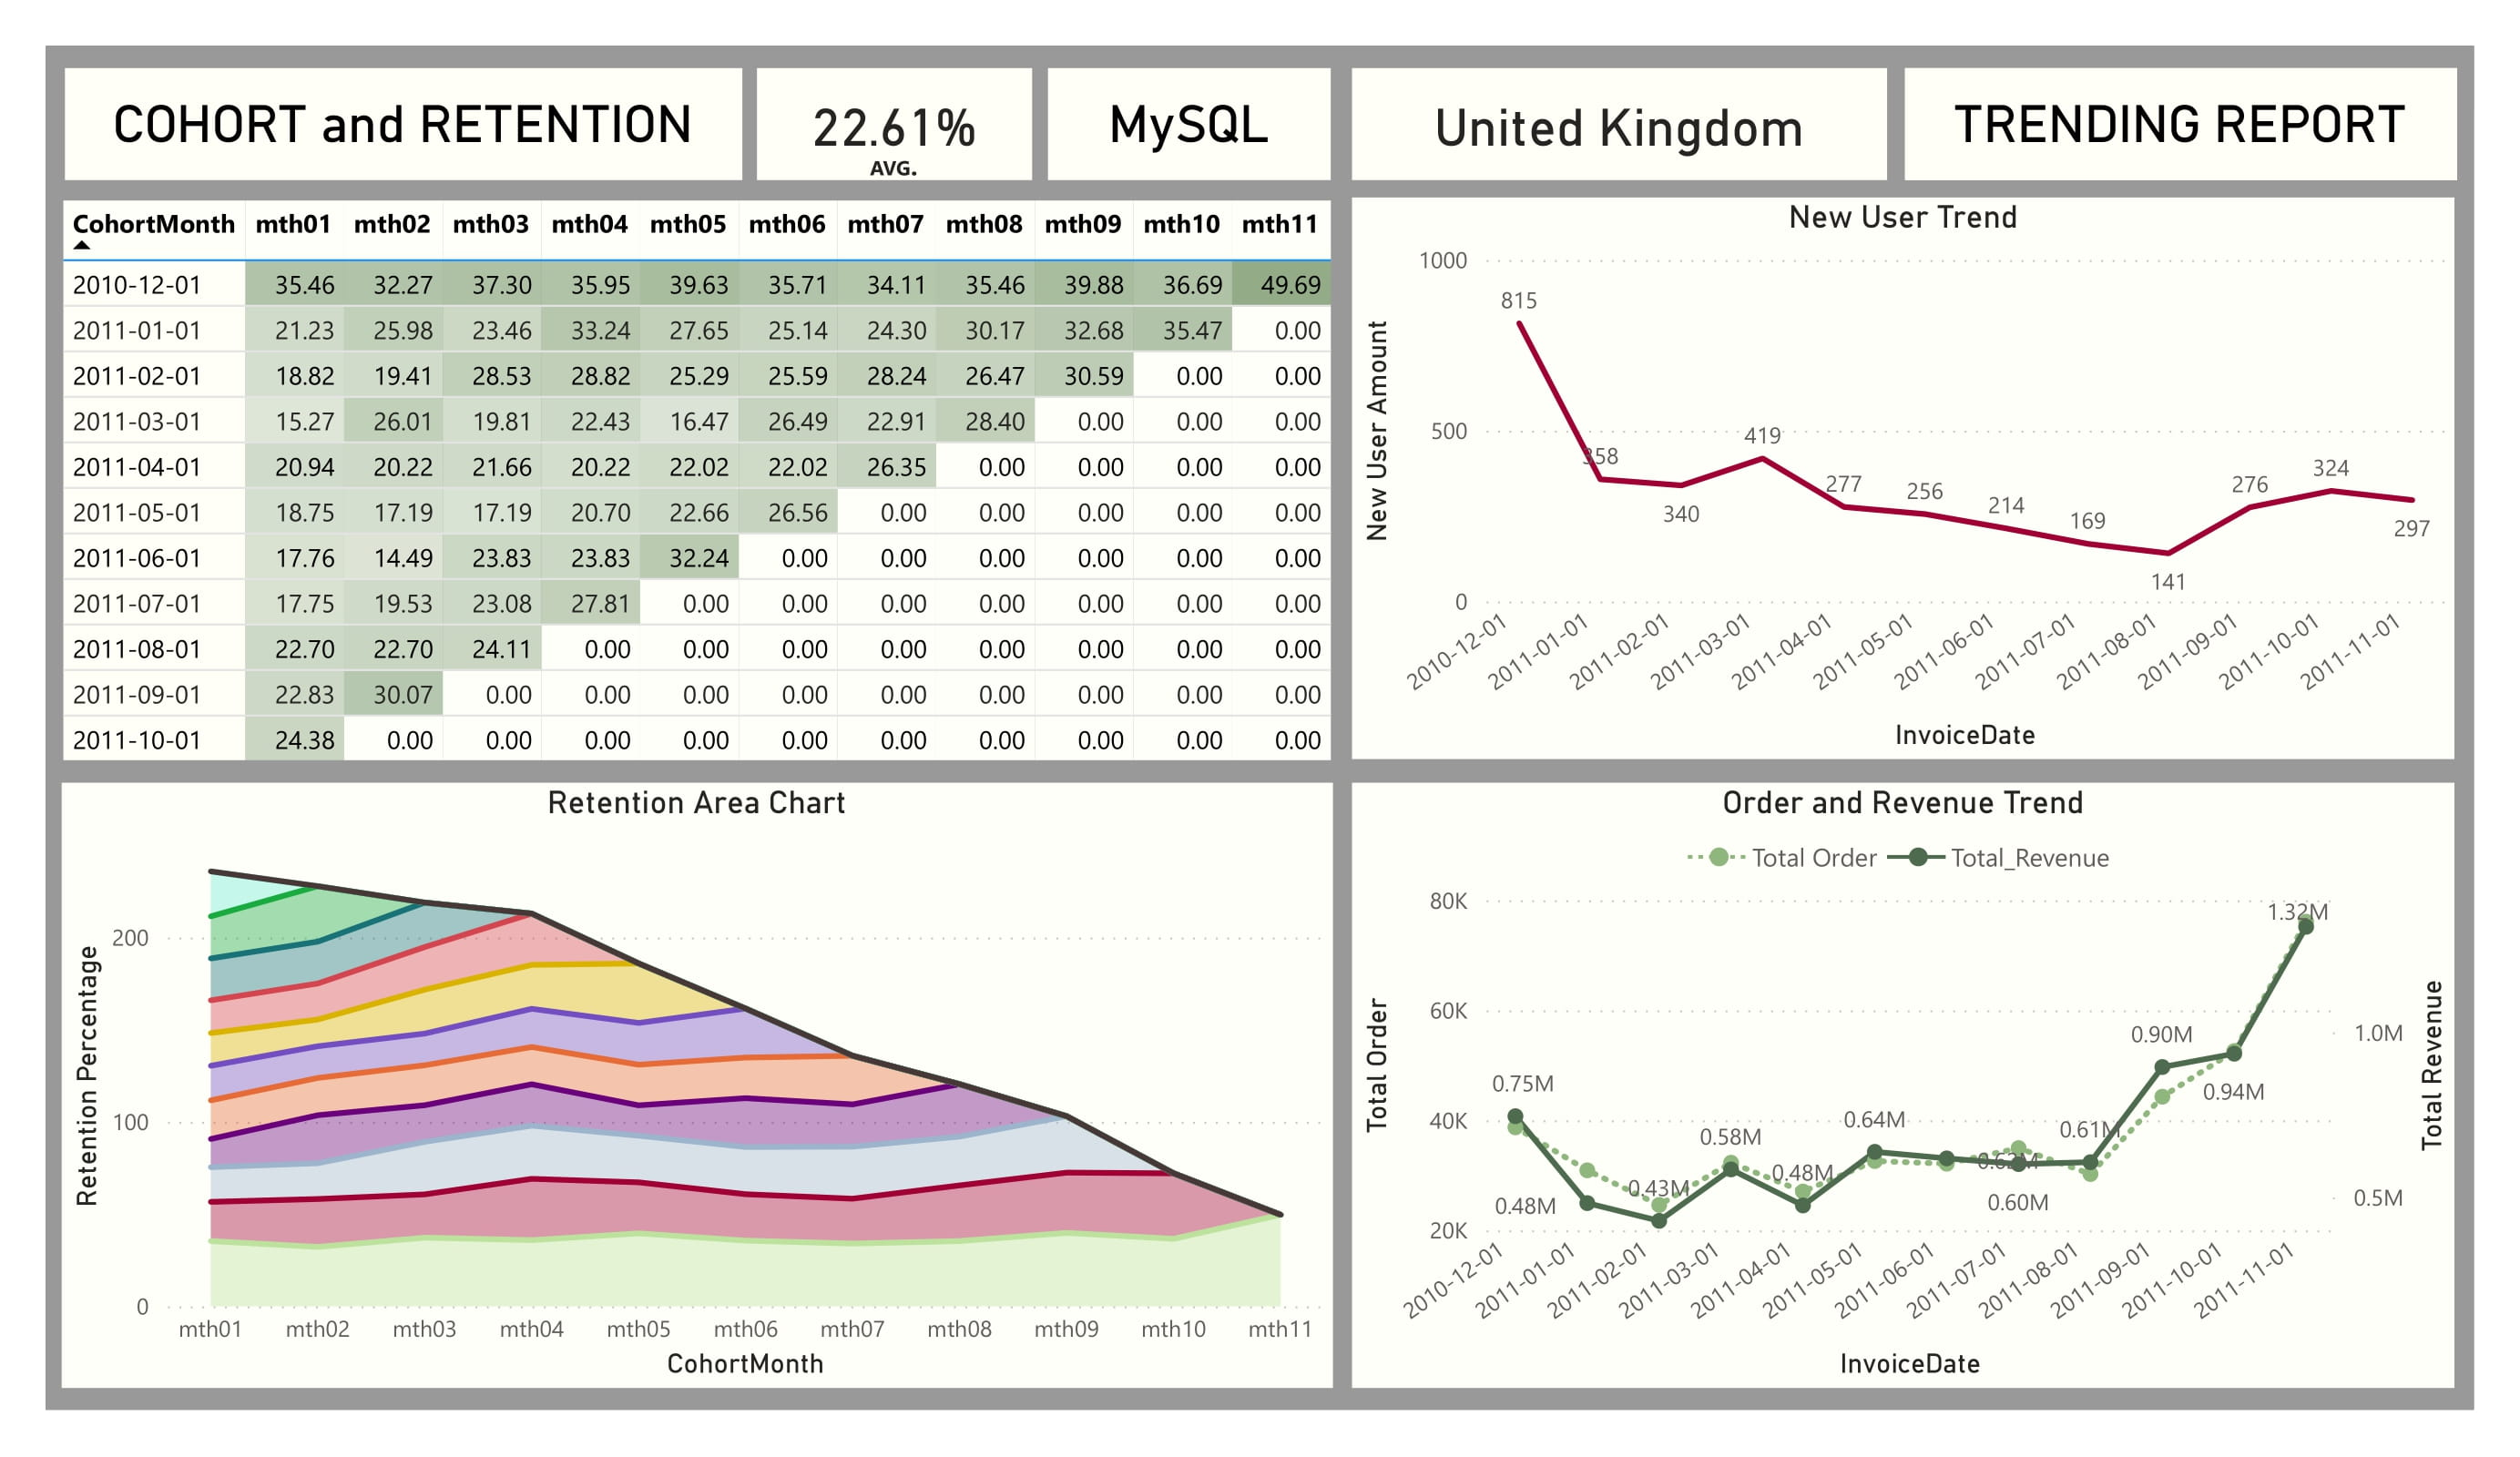

The dashboard page shown, as its layout file describes it:
{"tool":"powerbi","page":{"name":"Page 1","canvas":[1280,720],"ordinal":0},"visuals":[{"type":"tableEx","title":"Cohort Table","fields":{"Values":["project retention.CohortMonth","retention.mth01","retention.mth02","retention.mth03","retention.mth04","retention.mth05","retention.mth06","retention.mth07","retention.mth08","retention.mth09","retention.mth10","retention.mth11"]},"box":[3.5,77.2,685.3,321.8],"z":0},{"type":"stackedAreaChart","title":"Retention Area Chart","fields":{"Category":["retention_transbosed.CohortMonth"],"Y":["Sum(retention_transbosed.2010-12-01)","Sum(retention_transbosed.2011-01-01)","Sum(retention_transbosed.2011-02-01)","Sum(retention_transbosed.2011-03-01)","Sum(retention_transbosed.2011-04-01)","Sum(retention_transbosed.2011-05-01)","Sum(retention_transbosed.2011-06-01)","Sum(retention_transbosed.2011-07-01)","Sum(retention_transbosed.2011-08-01)","Sum(retention_transbosed.2011-09-01)","Sum(retention_transbosed.2011-10-01)","Sum(retention_transbosed.2011-11-01)"]},"box":[8.7,387.8,669.7,319.2],"z":1000},{"type":"lineChart","title":"New User Trend","fields":{"Category":["project time_series.InvoiceDate"],"Y":["Sum(project time_series.NewUsers)"]},"box":[688.8,80.7,581.2,295.8],"z":2000},{"type":"lineChart","title":"Order and Revenue Trend","fields":{"Category":["project time_series.InvoiceDate"],"Y":["time_series.Total Order"],"Y2":["time_series.Total_Revenue"]},"box":[688.8,387.8,581.2,319.2],"z":3000},{"type":"shape","box":[979.4,12.1,290.6,59],"z":4000},{"type":"textbox","box":[733,387.8,309.7,42.5],"z":5000},{"type":"shape","box":[9.5,12.1,356.5,59],"z":6000},{"type":"card","fields":{"Values":["time_series.Measure"]},"box":[688.8,12.1,281.9,59],"z":7000},{"type":"shape","box":[529.2,12.1,149.2,59],"z":8000},{"type":"card","fields":{"Values":["retention.Average Retention"]},"box":[374.7,12.1,144.9,59],"z":9000},{"type":"textbox","box":[430.3,48.6,59.9,44.2],"z":10000}]}

Visuals, with their boxes in screenshot pixels (x1, y1, x2, y2):
"Cohort Table" tableEx: BBox(52, 192, 1352, 802)
"Retention Area Chart" stackedAreaChart: BBox(62, 781, 1333, 1387)
"New User Trend" lineChart: BBox(1352, 199, 2455, 759)
"Order and Revenue Trend" lineChart: BBox(1352, 781, 2455, 1387)
shape: BBox(1904, 68, 2455, 180)
textbox: BBox(1436, 781, 2025, 861)
shape: BBox(64, 68, 740, 180)
card - time_series.Measure: BBox(1352, 68, 1888, 180)
shape: BBox(1050, 68, 1333, 180)
card - retention.Average Retention: BBox(757, 68, 1032, 180)
textbox: BBox(862, 138, 975, 221)
